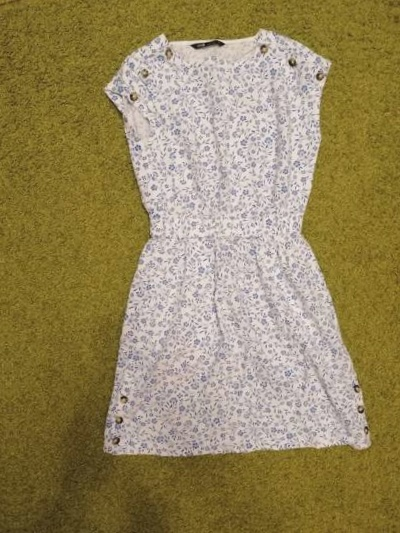Dress: (93, 19, 382, 487)
